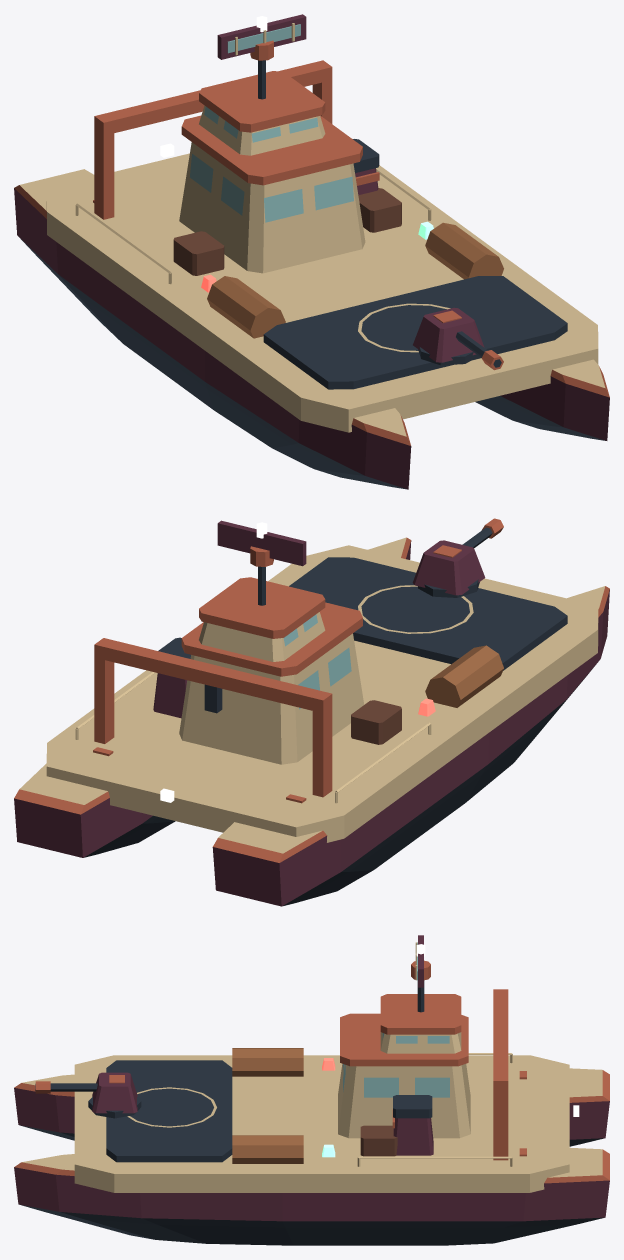
Rendered from base-ship-enemy.glb.
3 renders of one model, top to bottom at view 1: azimuth 30°, elevation 25°; view 2: azimuth 150°, elevation 25°; view 3: azimuth 270°, elevation 25°, orthographic. The views are drawn at different scales.
Parts seen in each view (by area): view 1: hull, turret, radar, funnel, barrel; view 2: hull, turret, radar, funnel; view 3: hull, funnel, turret, barrel, radar.
Part boxes in pixels (box(x1,y1,x2,y2)): hull: box(14, 60, 609, 489); turret: box(413, 307, 484, 365); radar: box(217, 14, 306, 60); funnel: box(353, 139, 379, 195); barrel: box(456, 331, 503, 370); hull: box(14, 537, 609, 906); turret: box(412, 540, 485, 597); radar: box(217, 520, 306, 566); funnel: box(153, 637, 190, 718); hull: box(14, 980, 609, 1245); funnel: box(392, 1095, 433, 1155); turret: box(88, 1072, 141, 1118); barrel: box(35, 1081, 97, 1093); radar: box(411, 935, 430, 987).
Size of the model in its own units: 3.35 by 3.28 by 7.11.
